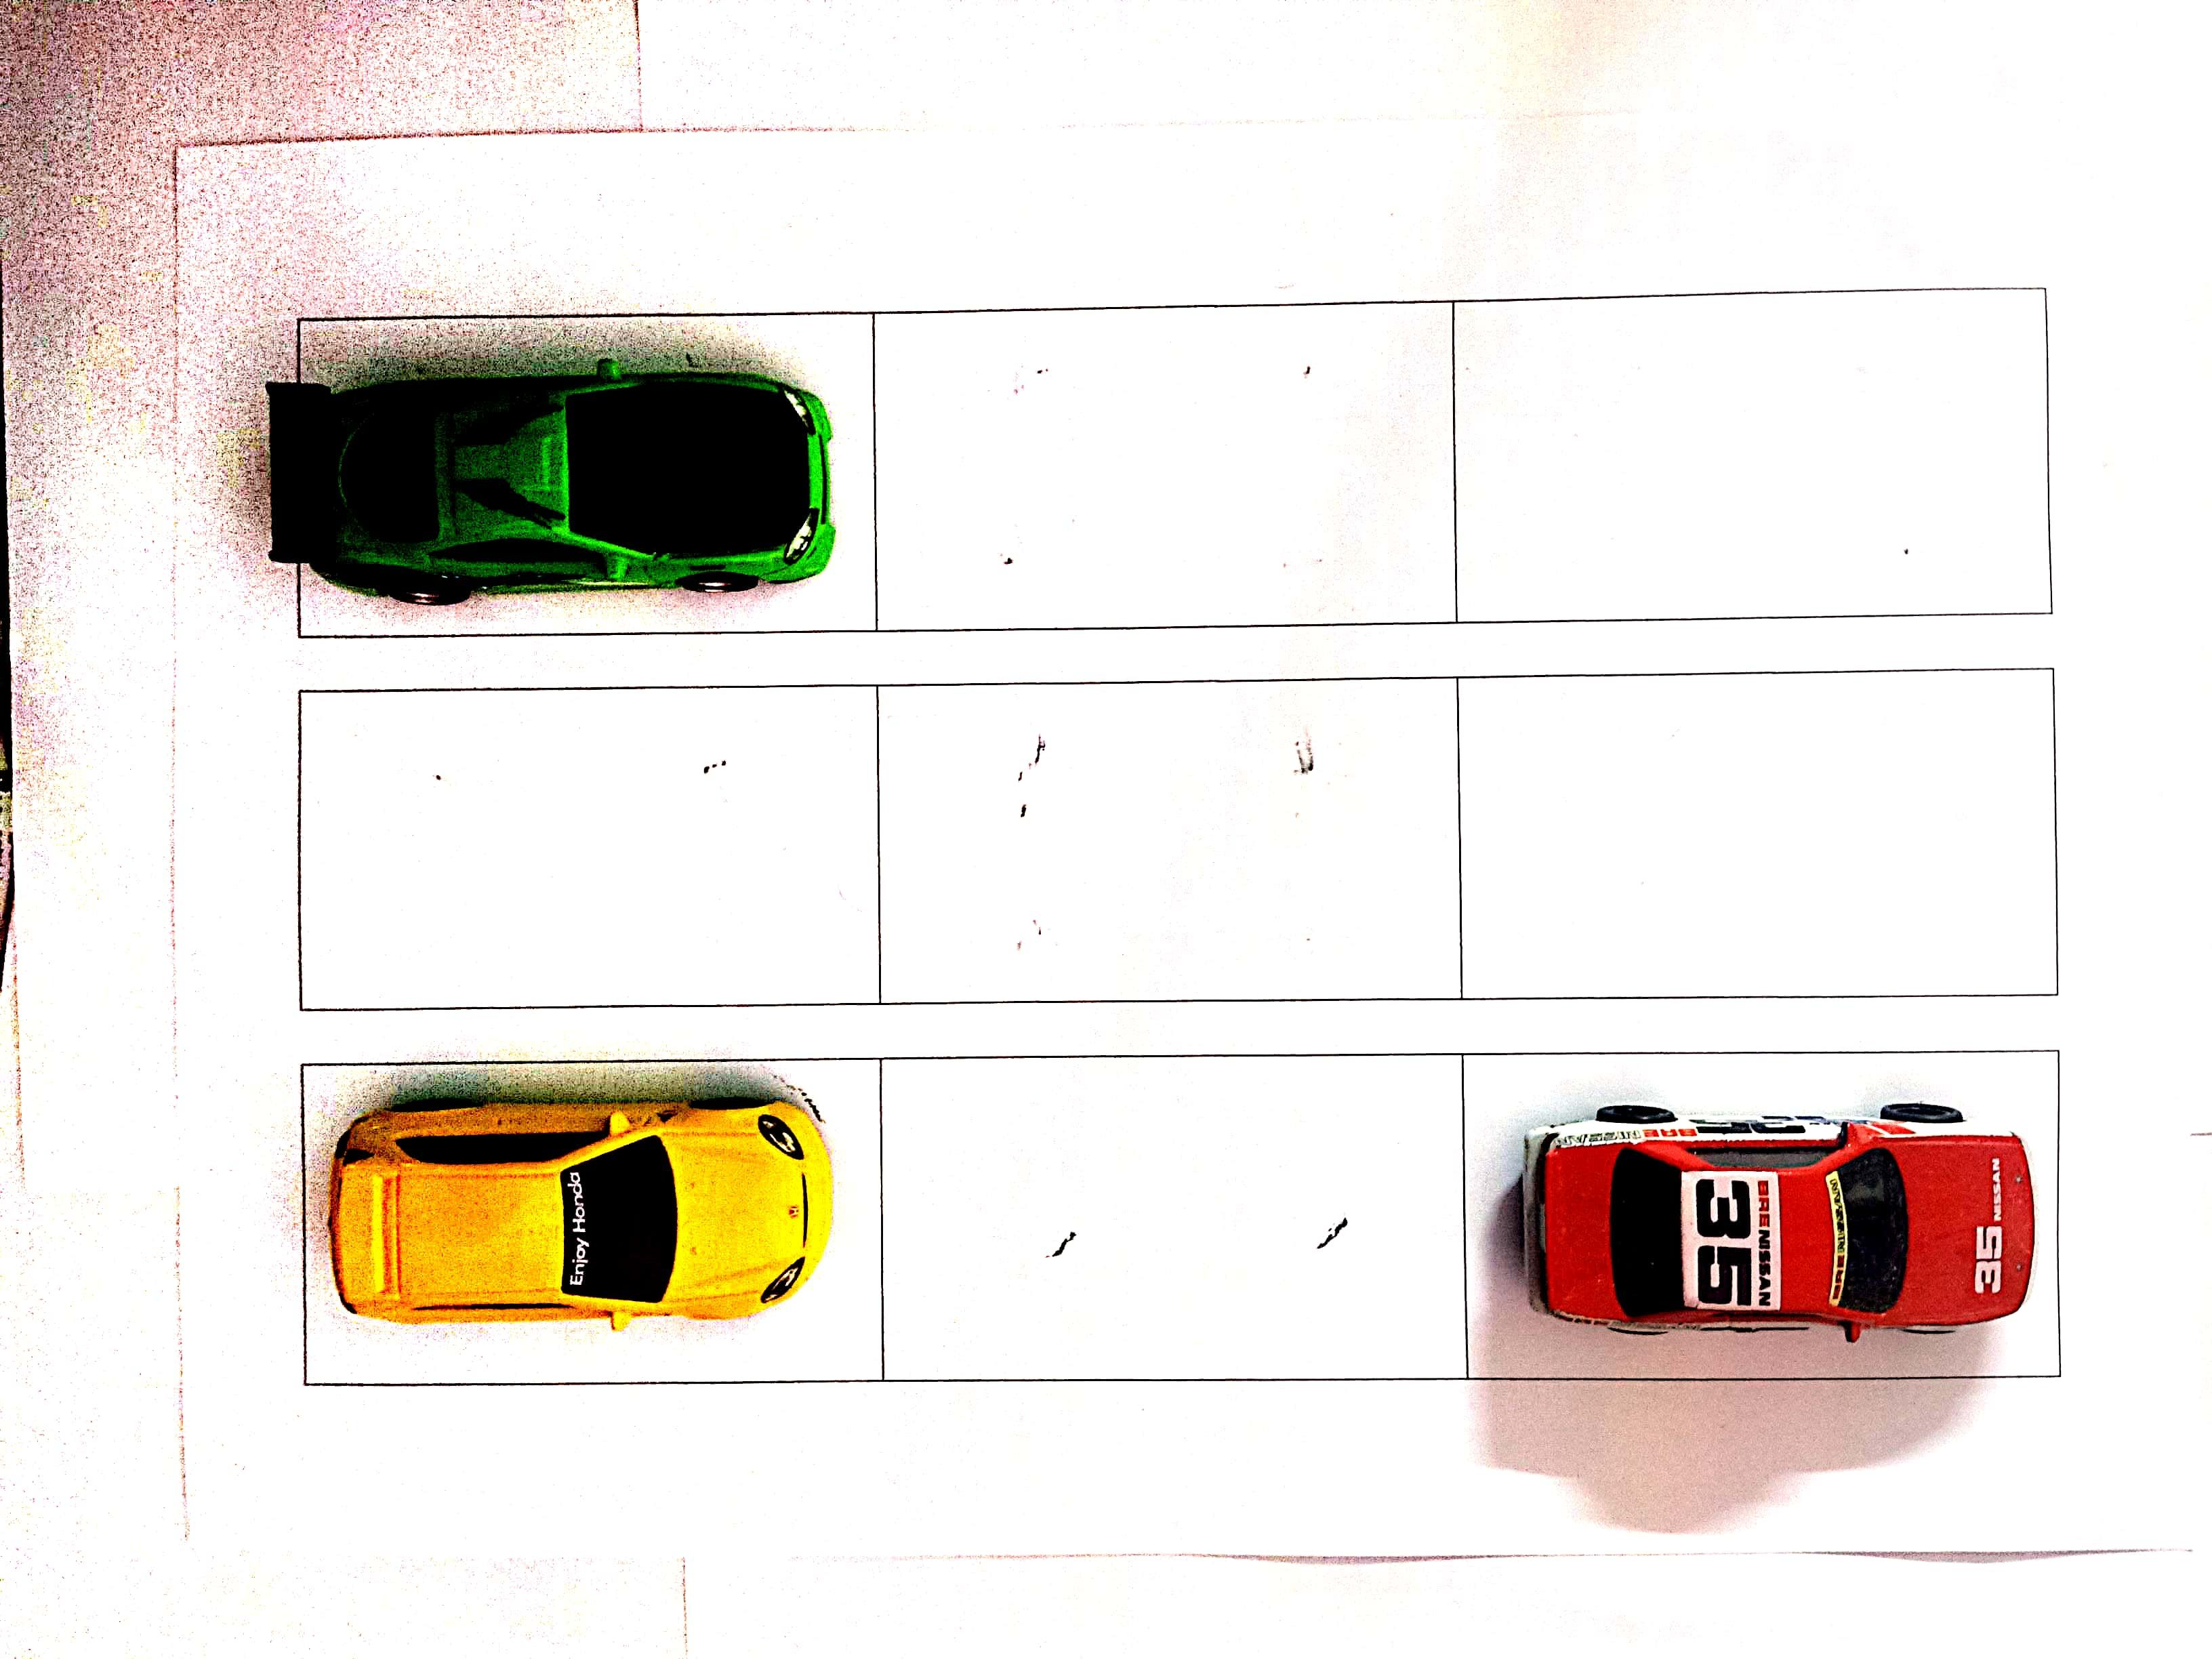Busy: (1470, 1053, 2055, 1378), (303, 1066, 880, 1375), (303, 317, 869, 627)
Free: (1458, 289, 2047, 615), (1463, 667, 2050, 992), (871, 305, 1458, 627), (296, 692, 878, 1011), (883, 1061, 1463, 1380), (883, 683, 1458, 1002)
